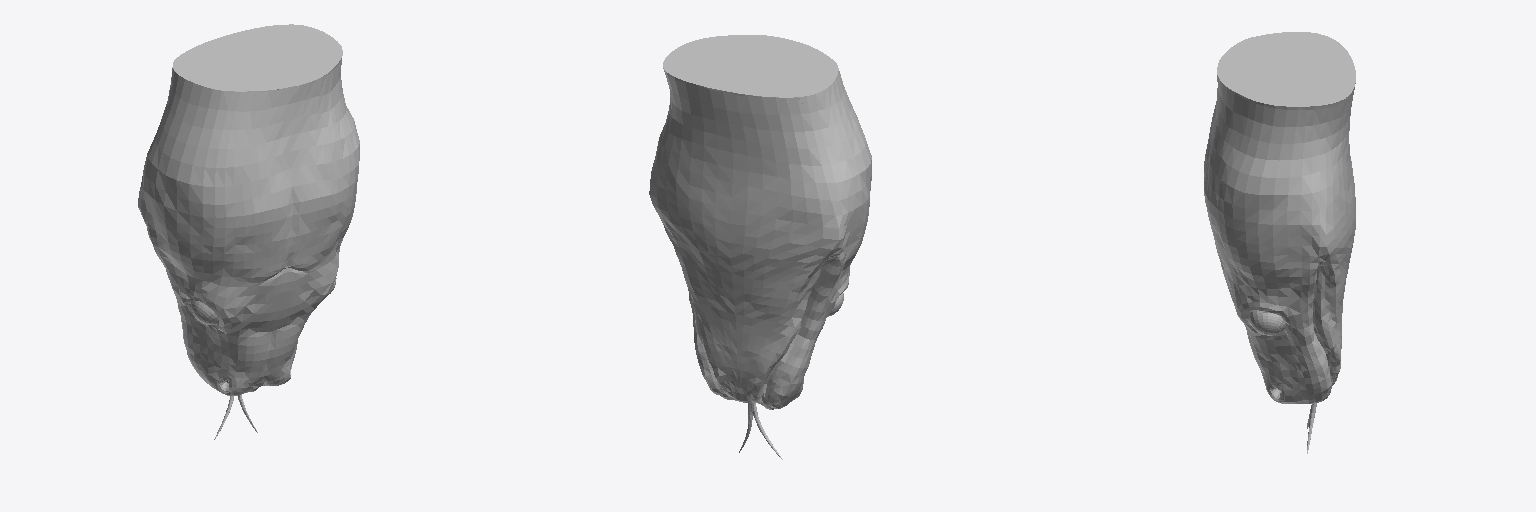
The model's file is snake_head.obj.
3 renders of one model, left to right at view 1: azimuth 30°, elevation 25°; view 2: azimuth 150°, elevation 25°; view 3: azimuth 270°, elevation 25°, orthographic.
Visible parts, largest first — view 1: Object.1; view 2: Object.1; view 3: Object.1.
Part boxes in pixels (bbox=[...]): Object.1: bbox=[138, 24, 359, 439]; Object.1: bbox=[649, 35, 871, 459]; Object.1: bbox=[1204, 32, 1355, 453].
Size of the model in its own units: 57.37 by 107 by 38.88.